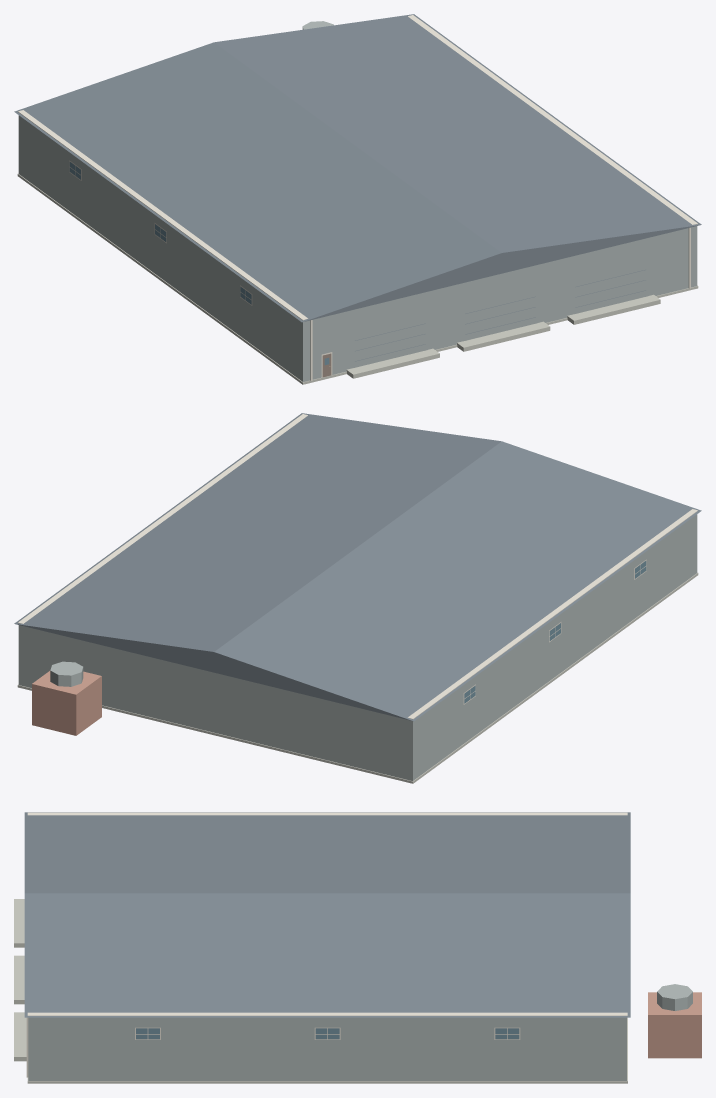
Rendered from warehouse-loading.glb.
The picture shows the model from 3 angles, top to bottom: view 1: azimuth 30°, elevation 25°; view 2: azimuth 150°, elevation 25°; view 3: azimuth 270°, elevation 25°; orthographic projection. The views are drawn at different scales.
Visible parts, largest first — view 1: warehouse-loading; view 2: warehouse-loading; view 3: warehouse-loading.
Part boxes in pixels (<box>): warehouse-loading: <box>14,14,701,384</box>; warehouse-loading: <box>14,413,701,783</box>; warehouse-loading: <box>14,812,701,1083</box>.
Size of the model in its own units: 40.6 by 8.2 by 57.45.
